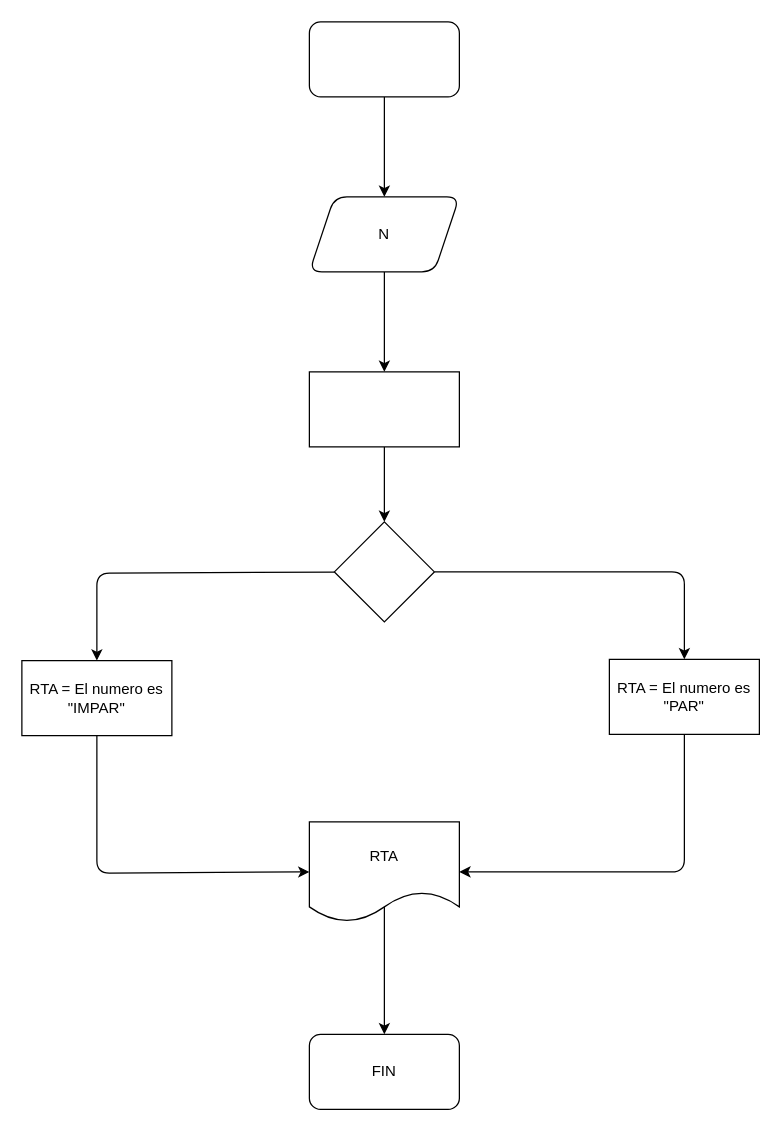
Image size: 781x1131. Some labels were removed from this diagram. Each missing label, with the centre of its shape:
INICIO: the point at 383,59
r = N%2: the point at 383,409
r == 0: the point at 383,571
